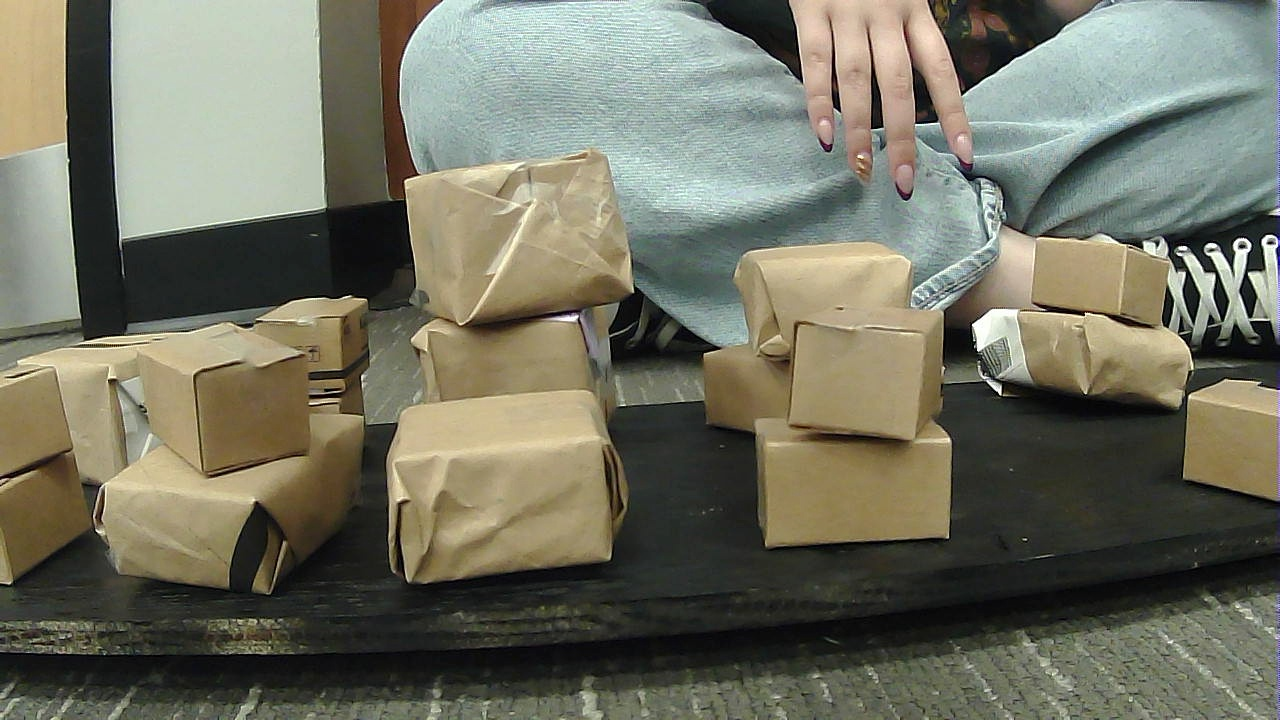package: (93, 427, 363, 587), (388, 401, 637, 568), (402, 166, 645, 310), (396, 313, 627, 443), (753, 411, 974, 545), (132, 323, 310, 467), (728, 232, 946, 345), (967, 309, 1182, 415), (21, 314, 174, 458), (789, 308, 946, 441), (712, 338, 908, 444), (1173, 359, 1277, 510), (252, 282, 373, 392), (1021, 231, 1164, 321), (4, 474, 90, 580), (5, 360, 82, 471)
stacked: (402, 160, 624, 439), (135, 319, 359, 584), (695, 240, 941, 438), (769, 301, 962, 543), (986, 227, 1187, 409), (259, 281, 380, 448), (0, 357, 90, 575)
